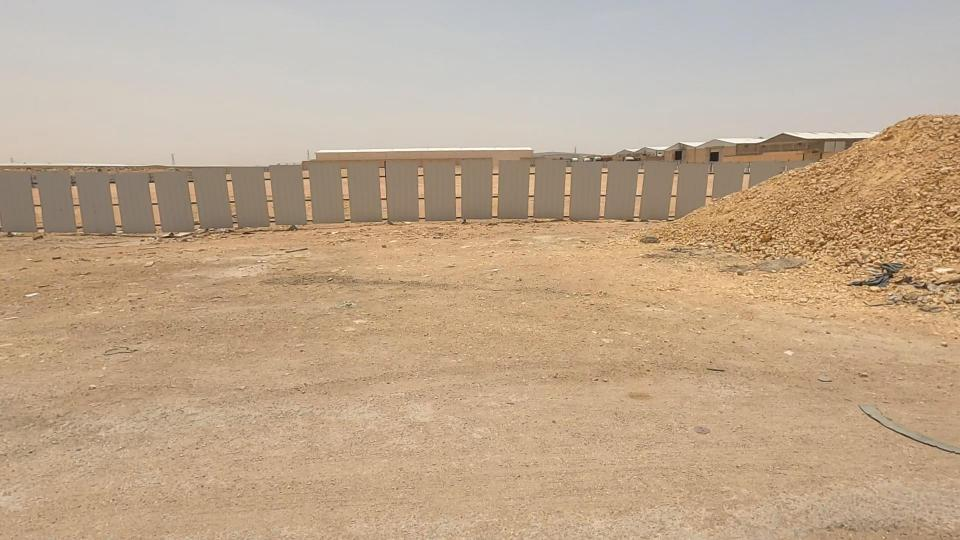SAND_ON_ROAD: (634, 32, 960, 353)
